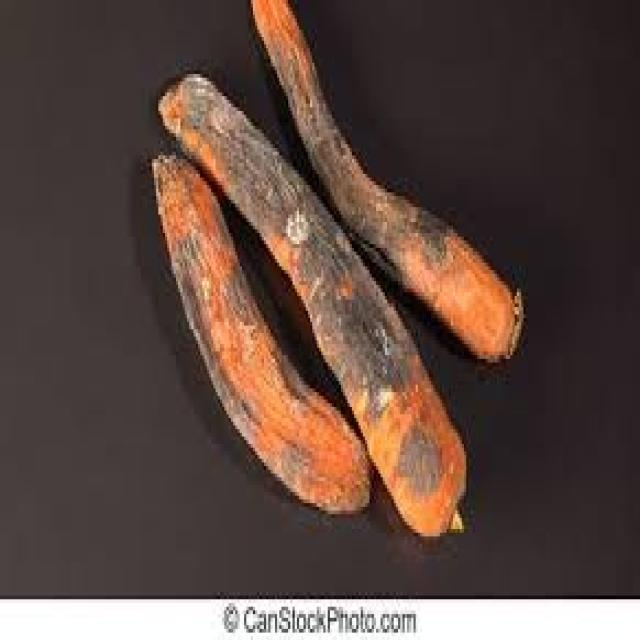Stale_Carrot: (136, 49, 452, 589), (152, 164, 345, 549)
